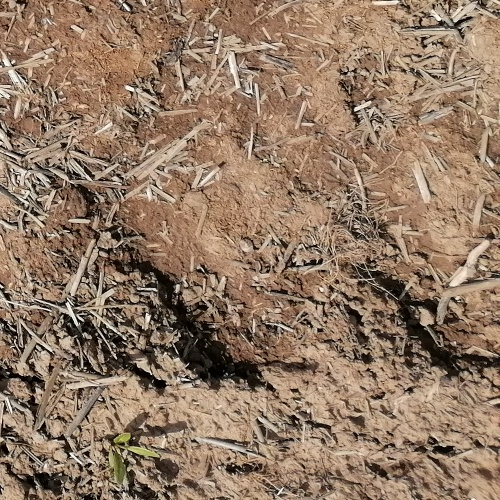beet: (107, 431, 158, 481)
